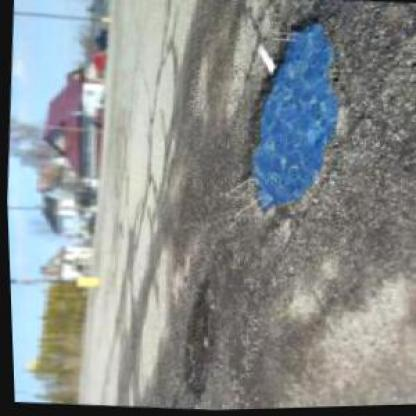pothole: (230, 13, 345, 220), (170, 278, 218, 400)
